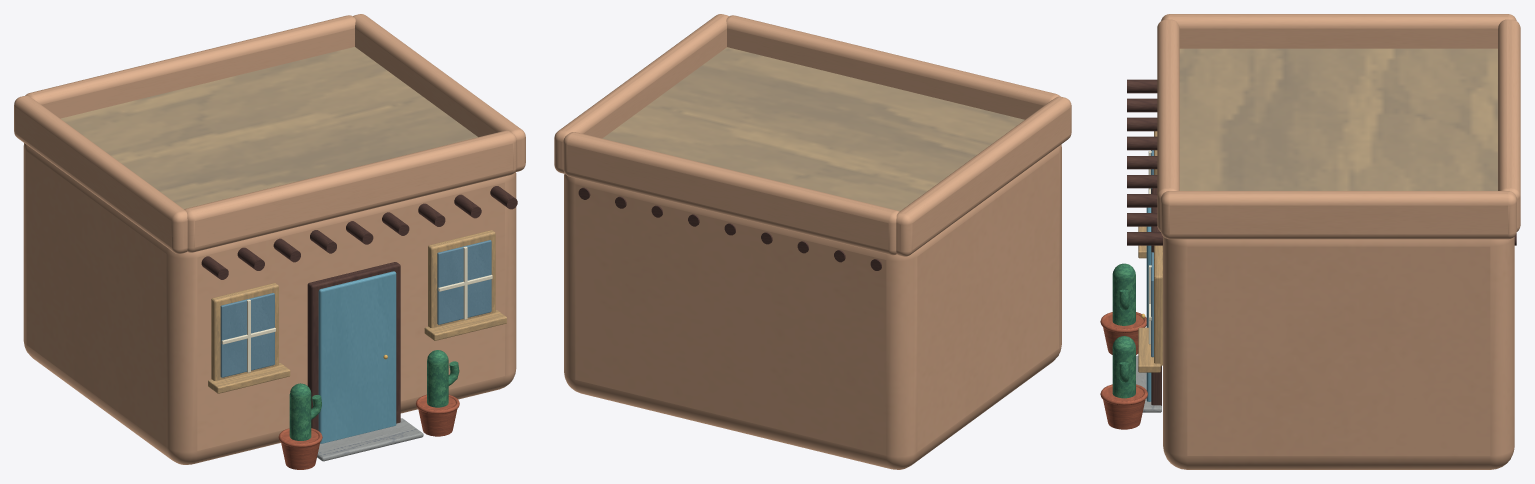
The model's file is house_2.glb.
3 views of the same model, side by side, from view 1: azimuth 30°, elevation 25°; view 2: azimuth 150°, elevation 25°; view 3: azimuth 270°, elevation 25° (orthographic). The views are drawn at different scales.
Visible parts, largest first — view 1: house_2; view 2: house_2; view 3: house_2.
Part boxes in pixels (bbox=[...]): house_2: bbox=[14, 14, 525, 469]; house_2: bbox=[554, 14, 1071, 469]; house_2: bbox=[1100, 14, 1520, 469].
Bounding box in the file's own units: 4.89 × 3.47 × 4.66.
Materials: 3 (3 with a texture image).
